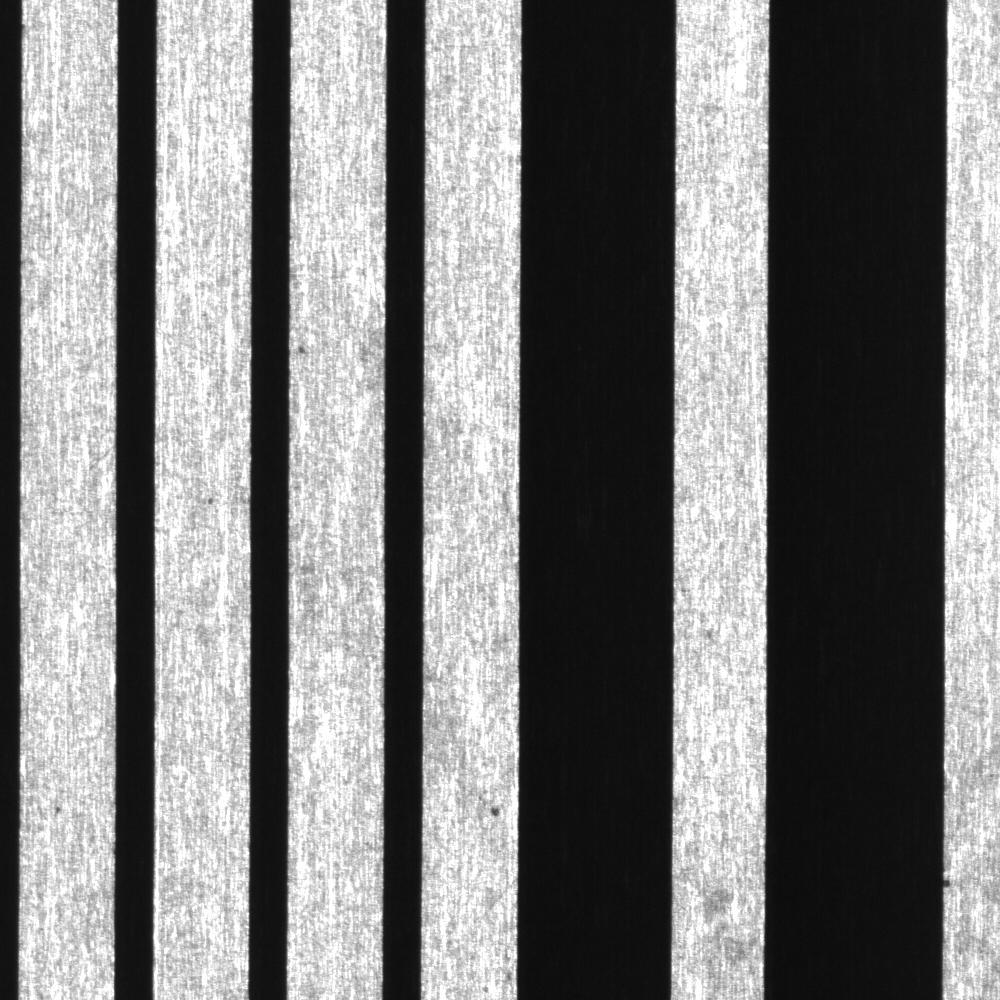Etching: (471, 776, 517, 836), (692, 604, 729, 658), (44, 793, 70, 827)
Pinhole: (940, 852, 963, 918), (291, 331, 319, 369), (199, 484, 227, 517)
